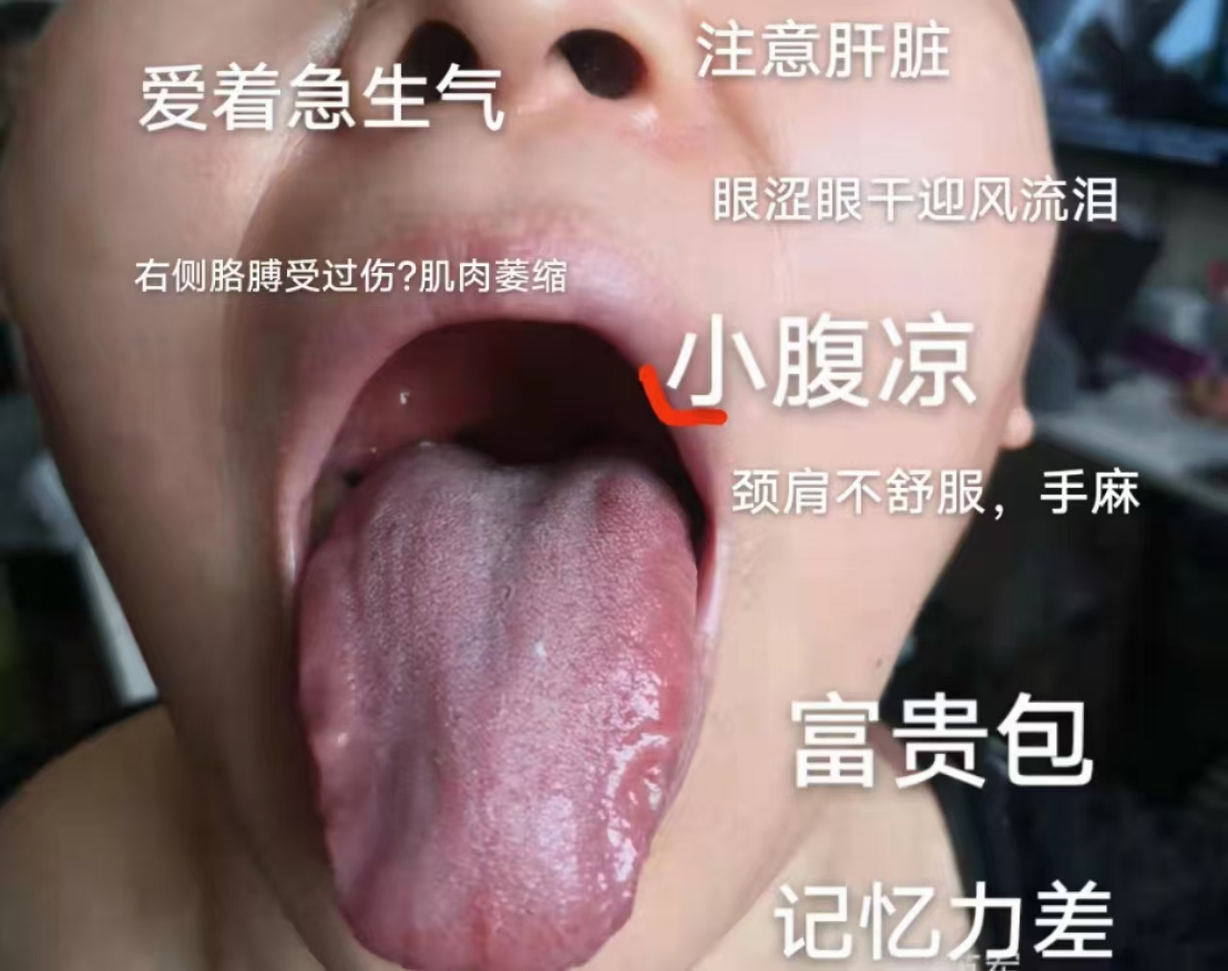baitaishe: (297, 439, 697, 971)
gandanao: (299, 539, 433, 914)
hongshe: (297, 439, 697, 971)
